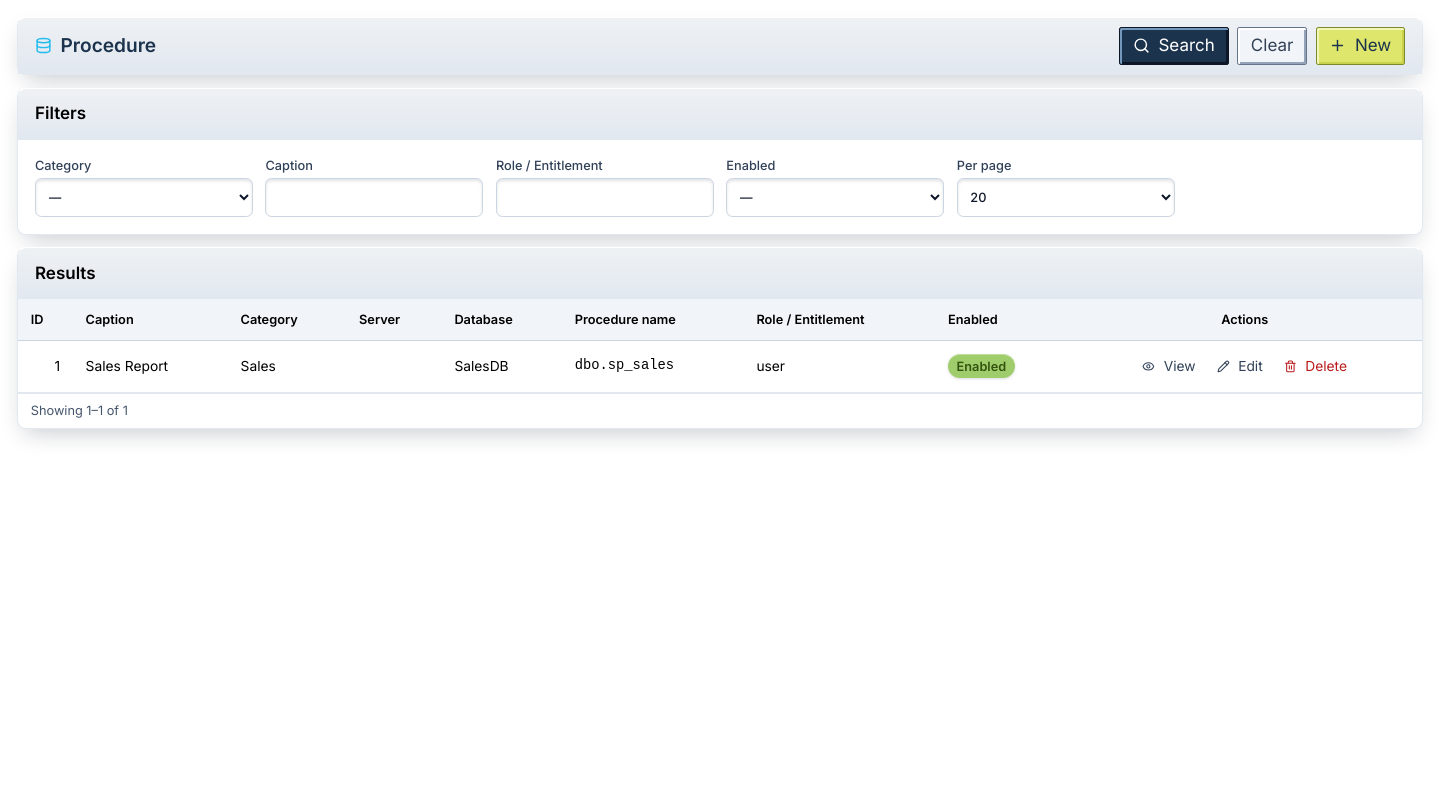
clicking Delete then Cancel closes the dialog without deleting
expect the text "Sales Report" is shown: met, box [73,341,228,393]
Click the button "Delete".
click(1316, 366)  # box [1276,349,1356,383]
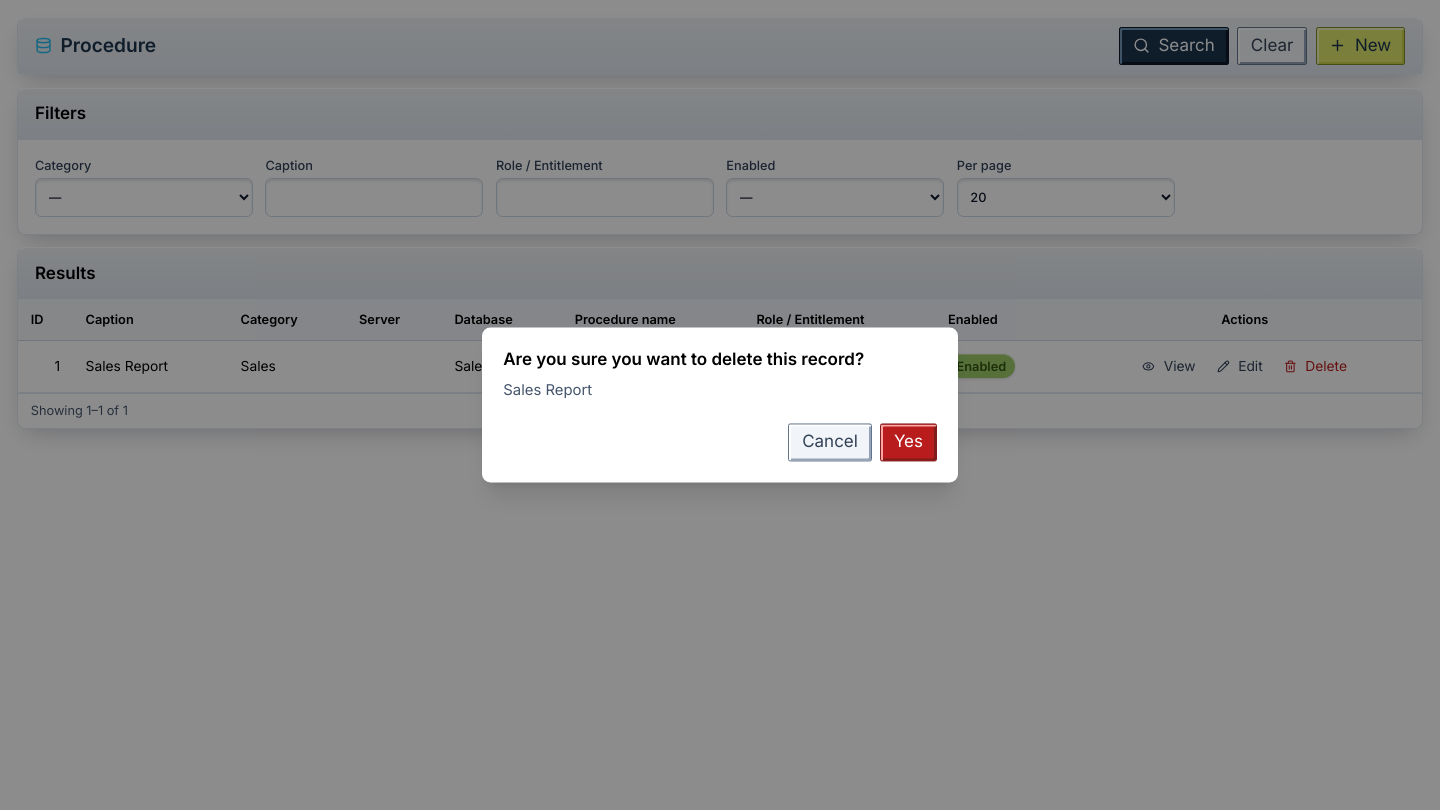
expect the button "Cancel" is shown: met
Click the button "Cancel".
click(830, 442)  # box [788,423,872,461]
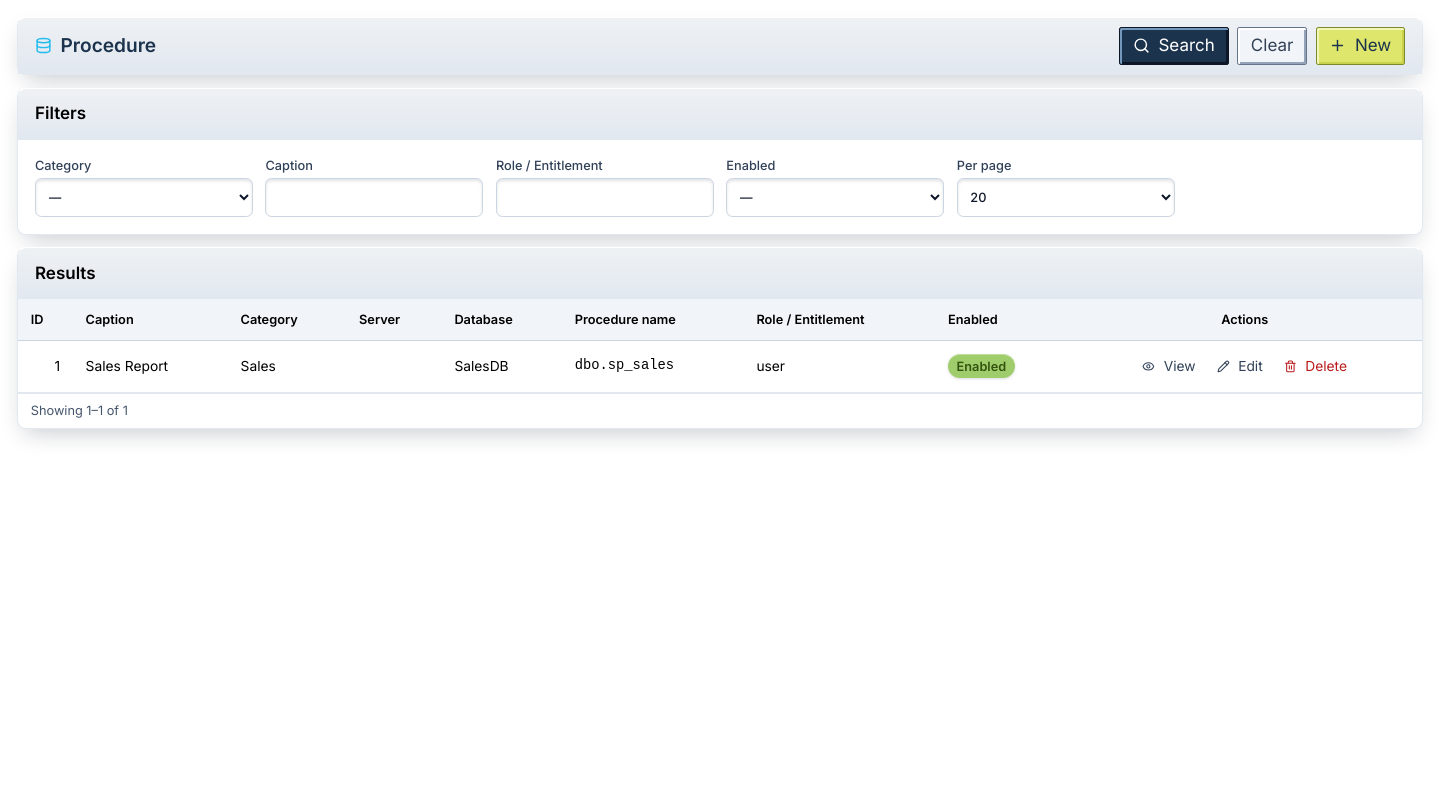
expect the button "Cancel" is gone: met
